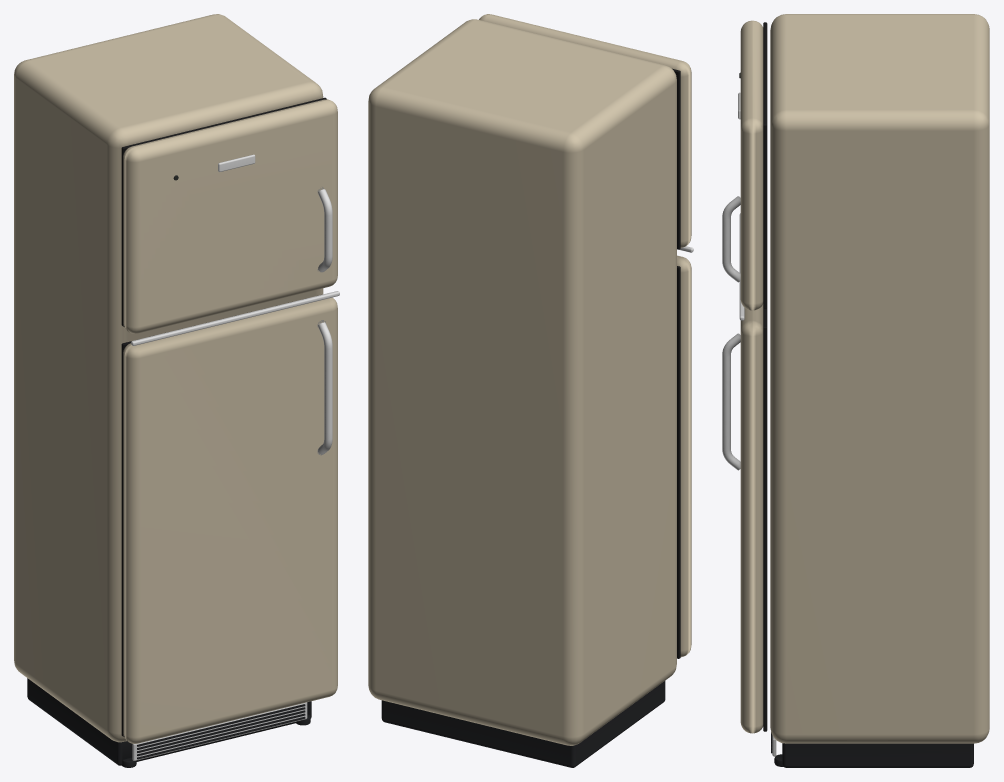
The model's file is fridge.glb.
3 renders of one model, left to right at view 1: azimuth 30°, elevation 25°; view 2: azimuth 150°, elevation 25°; view 3: azimuth 270°, elevation 25°, orthographic. The views are drawn at different scales.
Parts seen in each view (by area): view 1: Body; view 2: Body; view 3: Body.
Boxes of the visible parts, box(x1,y1,x2,y2) form: Body: box(14, 14, 339, 767); Body: box(368, 14, 693, 767); Body: box(722, 14, 989, 767).
Bounding box in the file's own units: 0.64 × 1.82 × 0.671.
